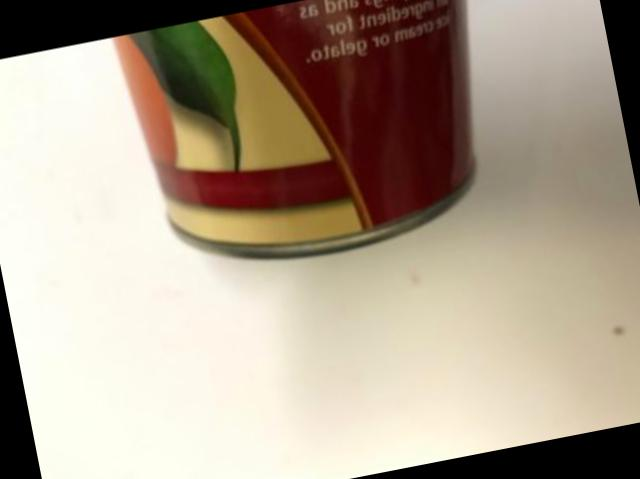metal: (110, 0, 470, 258)
